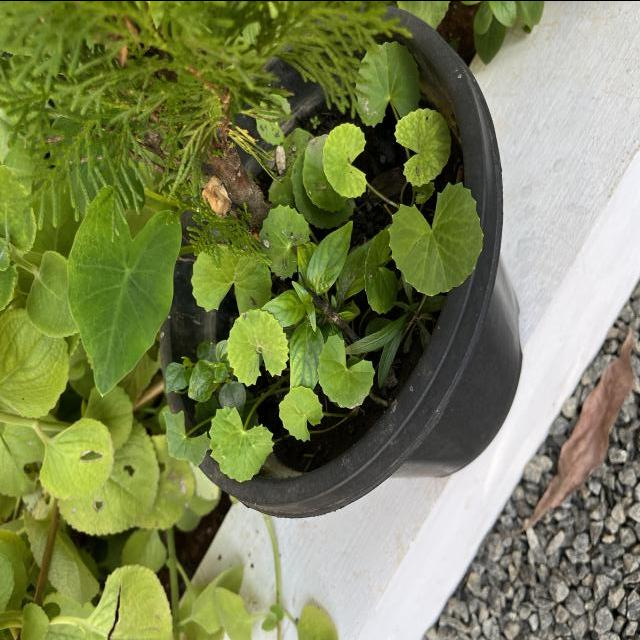Centella asiatica: (386, 178, 486, 298), (225, 306, 292, 388), (392, 104, 452, 189), (316, 332, 376, 409), (322, 120, 368, 200), (276, 382, 327, 444)
